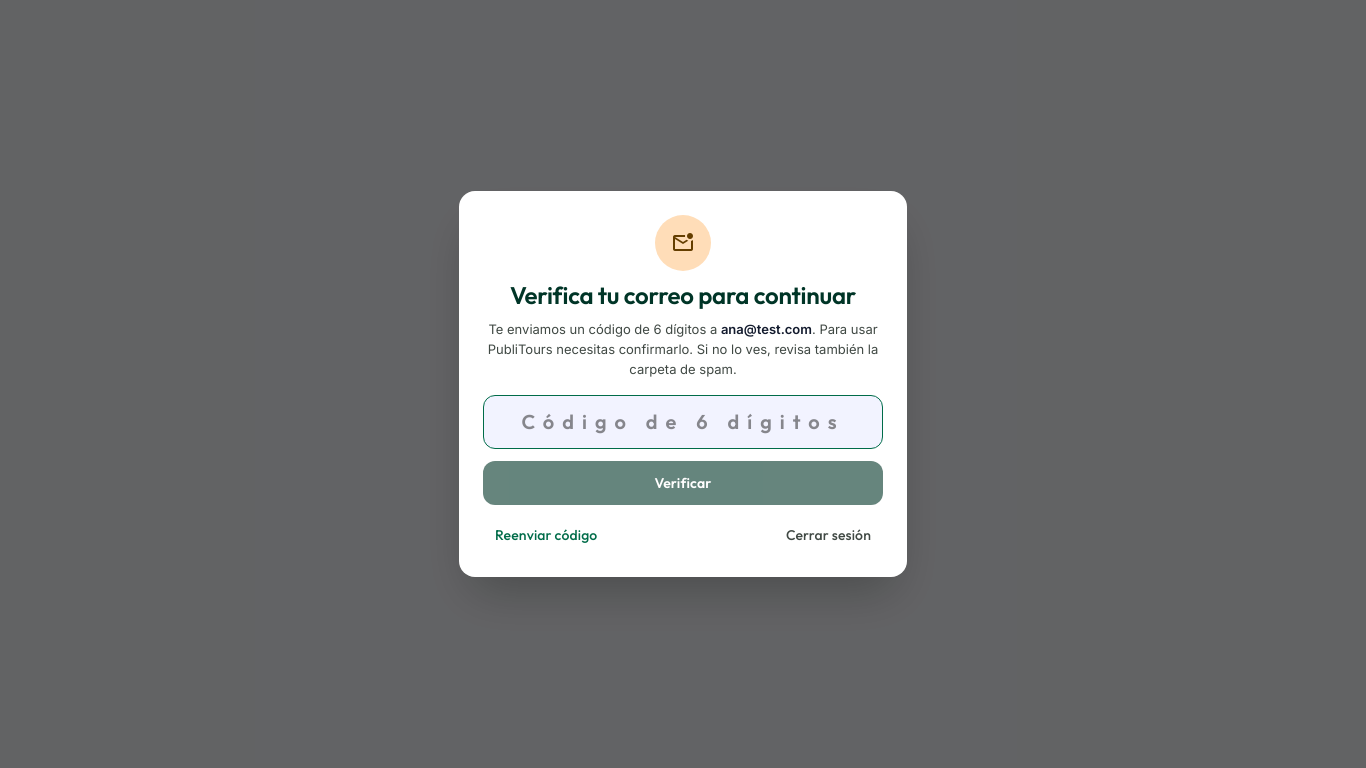
Test: AvisoVerificarCorreo › el botón Verificar solo se habilita con 6 dígitos y el campo ignora letras
In the field named "Código de verificación": (683, 422) [483,395,883,449], type "12ab34"
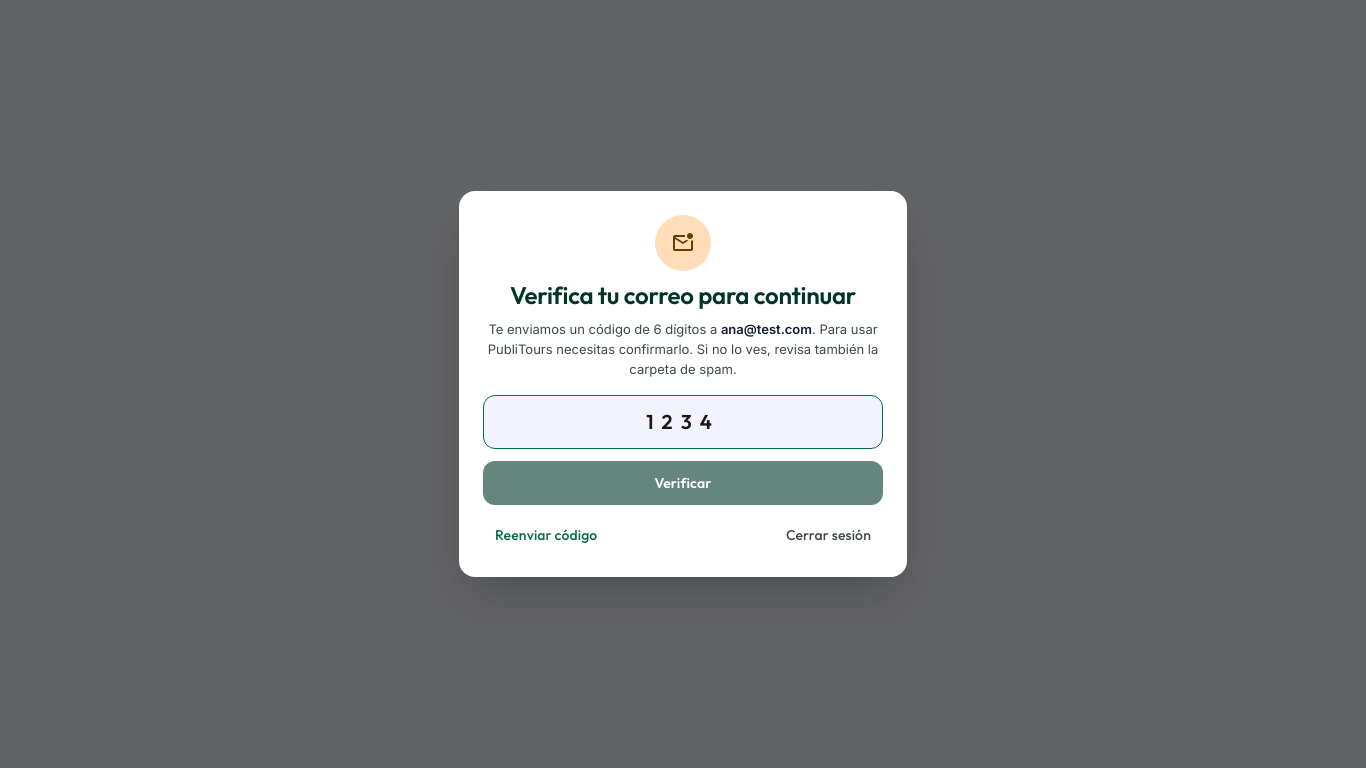
Expected: the button "Verificar" is disabled, [483,461,883,505]
Expected: the field named "Código de verificación" holds "1234"
In the field named "Código de verificación": (683, 422) [483,395,883,449], type "56"
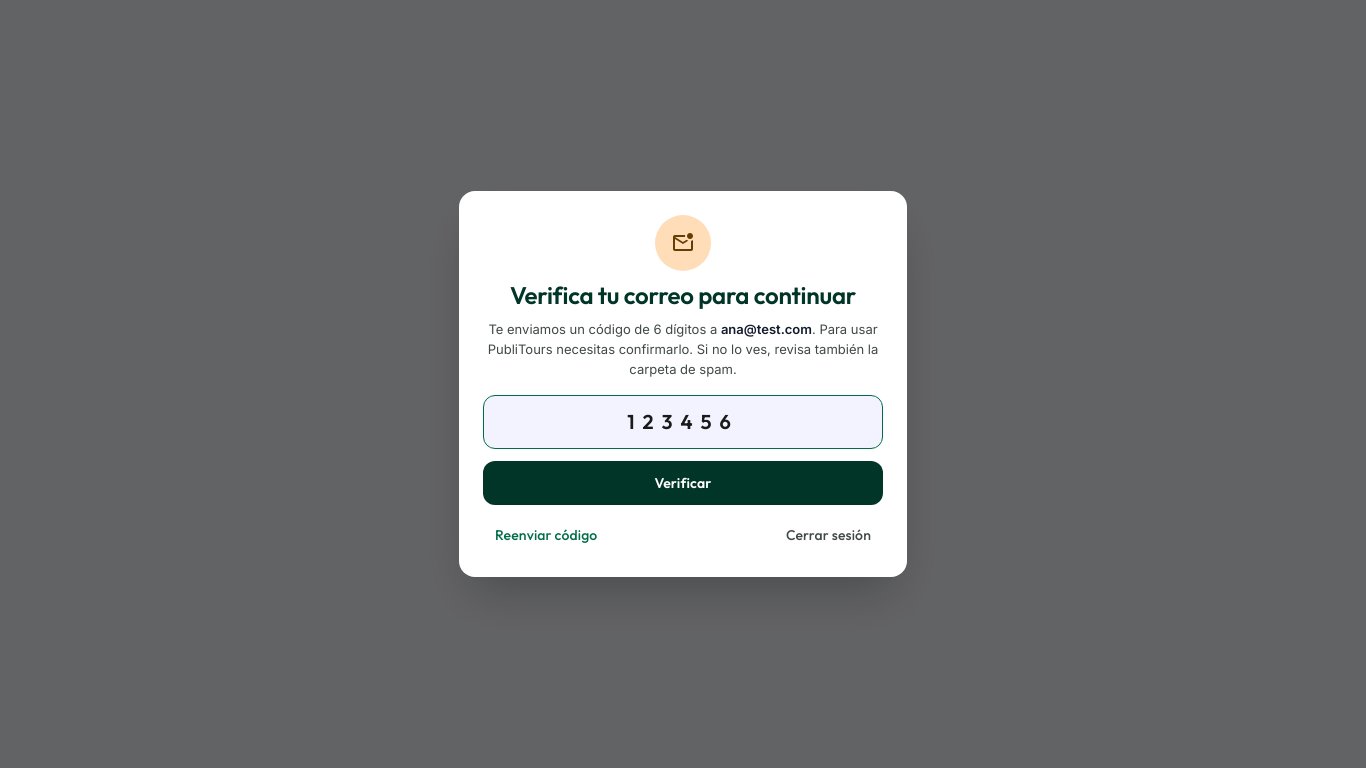
Expected: the button "Verificar" is enabled, [483,461,883,505]
